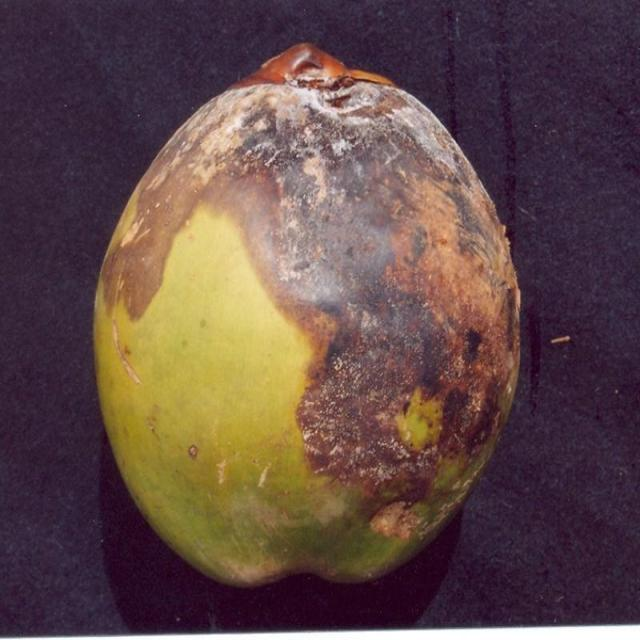damaged: (92, 44, 522, 592)
